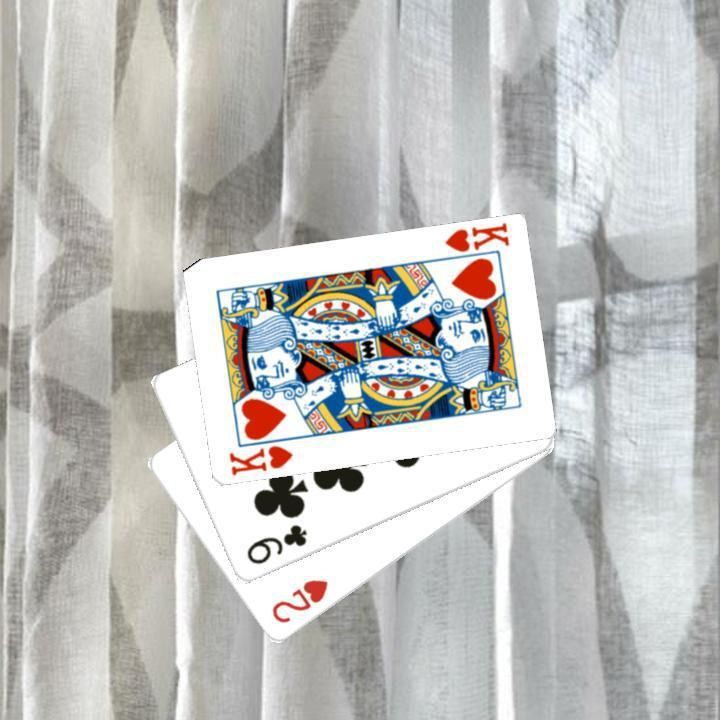2: (267, 575, 330, 626)
9: (242, 520, 310, 567)
K: (439, 219, 511, 255), (224, 441, 294, 478)
